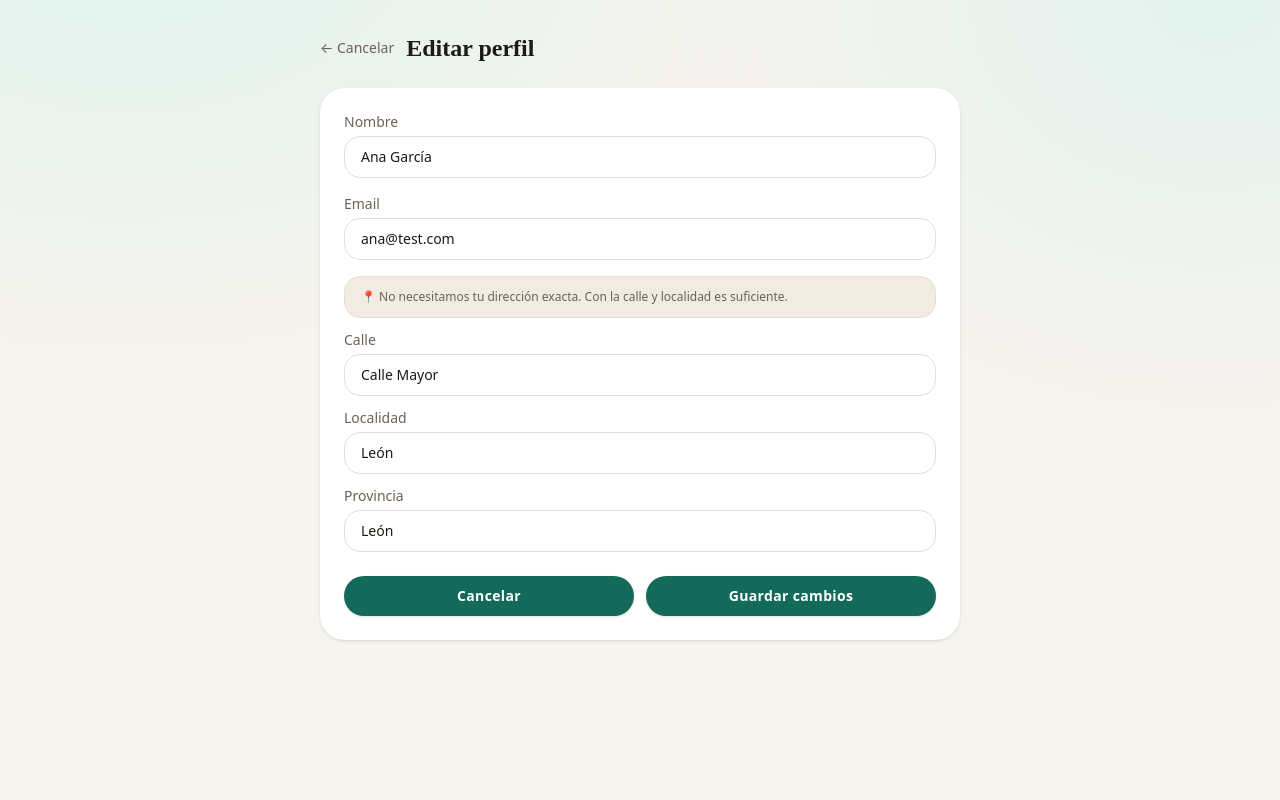
Test case: EditProfilePage › muestra error si la calle contiene números
Replace the text in the field labelled "Calle" with "Calle 123" at [640, 375], box [344, 354, 936, 396]
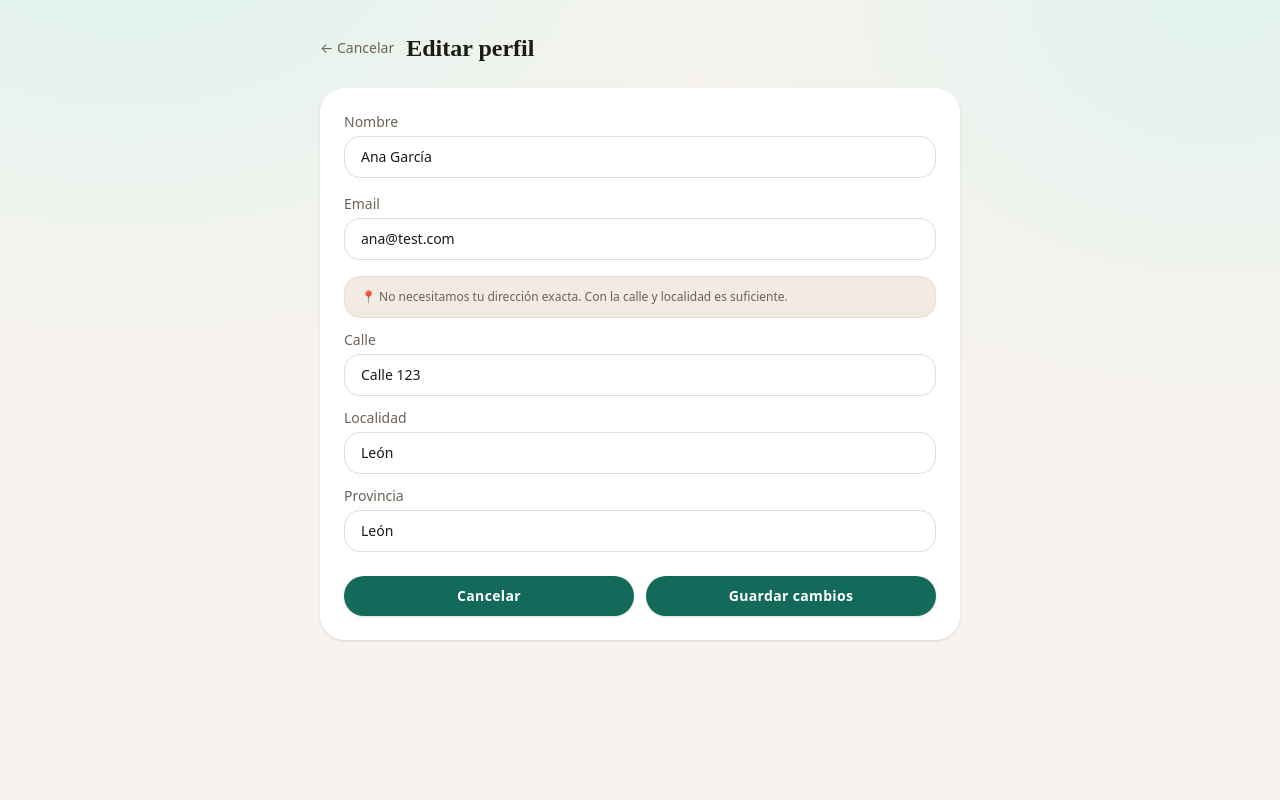
Click the button "Guardar cambios" at [791, 596], box [646, 576, 936, 616]
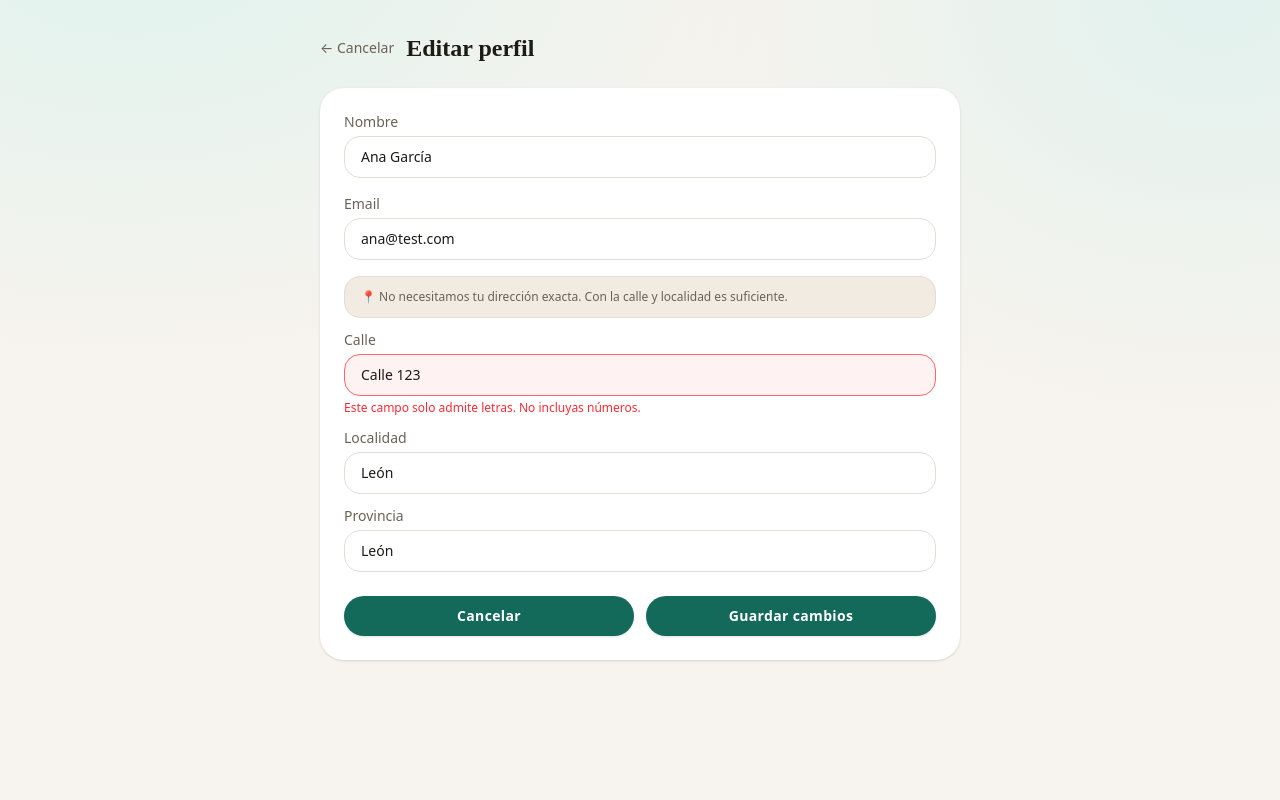
Now the text "Este campo solo admite letras. No incluyas números." is shown once, box [344, 399, 641, 416]
